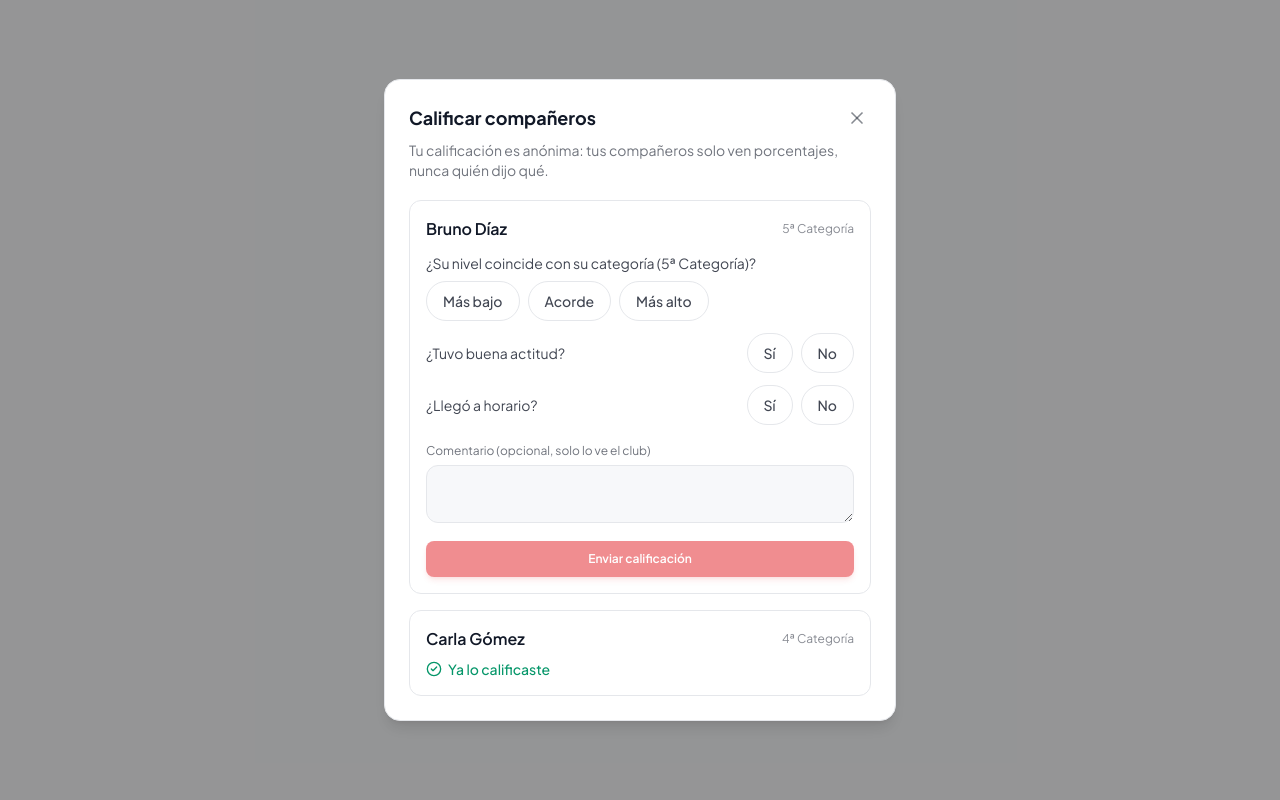
Test: ReviewTeammatesModal › envía las respuestas y el comentario, y lo marca como calificado
Click the button "Más bajo".
click(473, 301)  # box [426,281,520,321]
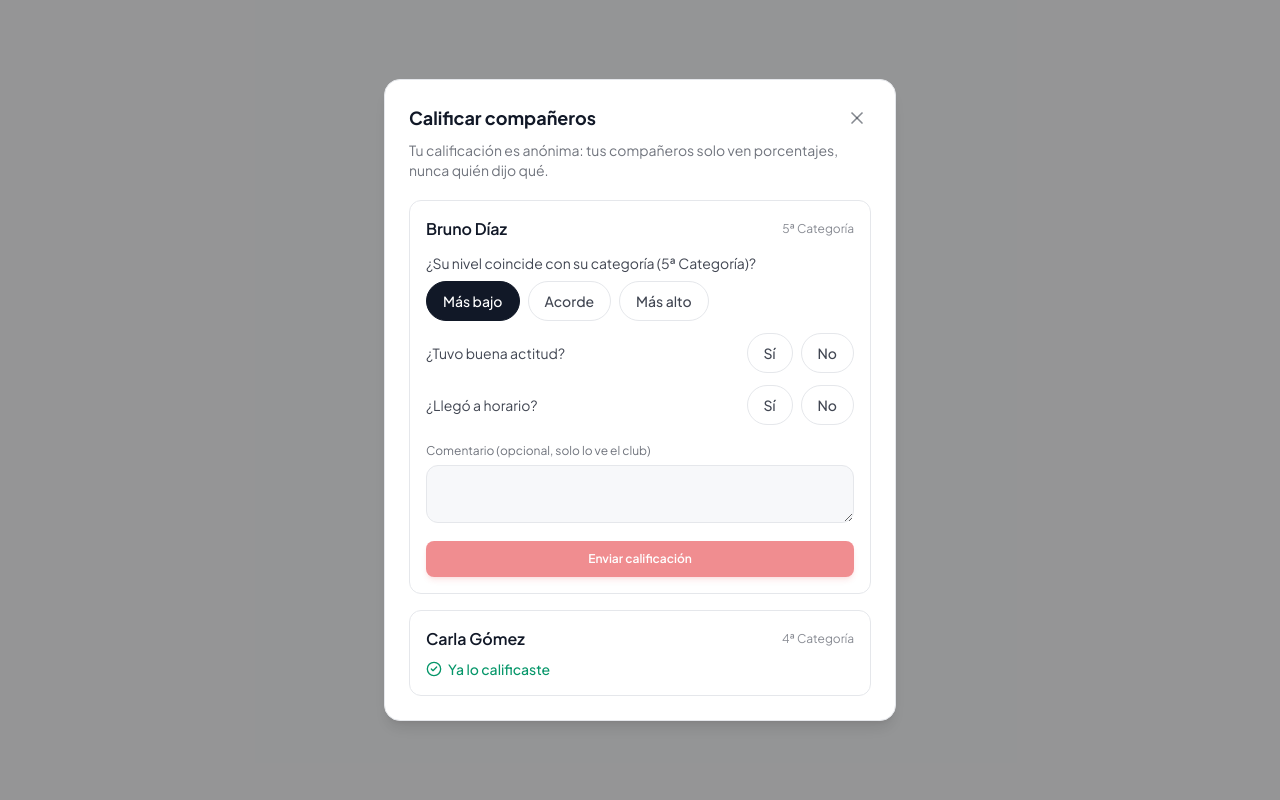
Click the button "Sí" in the row of "¿Tuvo buena actitud?".
click(770, 353)  # box [746,333,792,373]
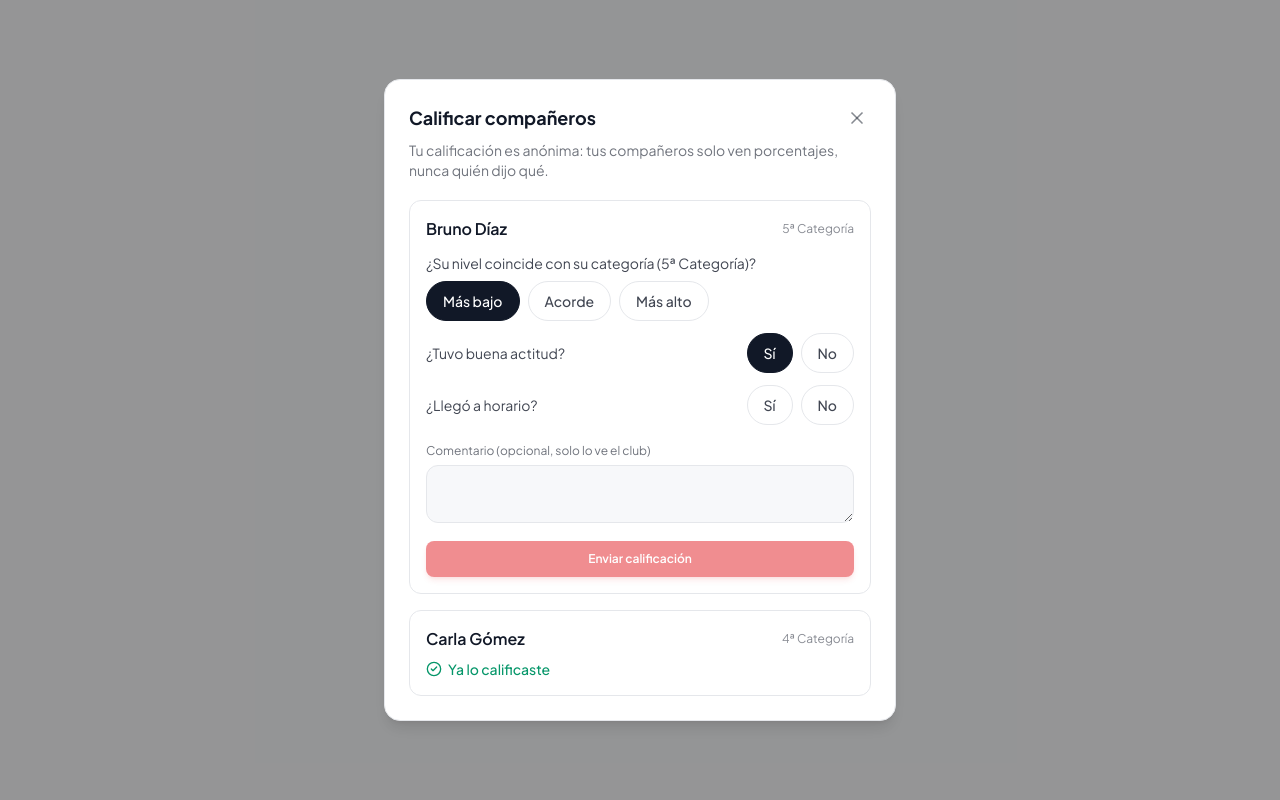
Click the button "No" in the row of "¿Llegó a horario?".
click(827, 405)  # box [800,385,854,425]
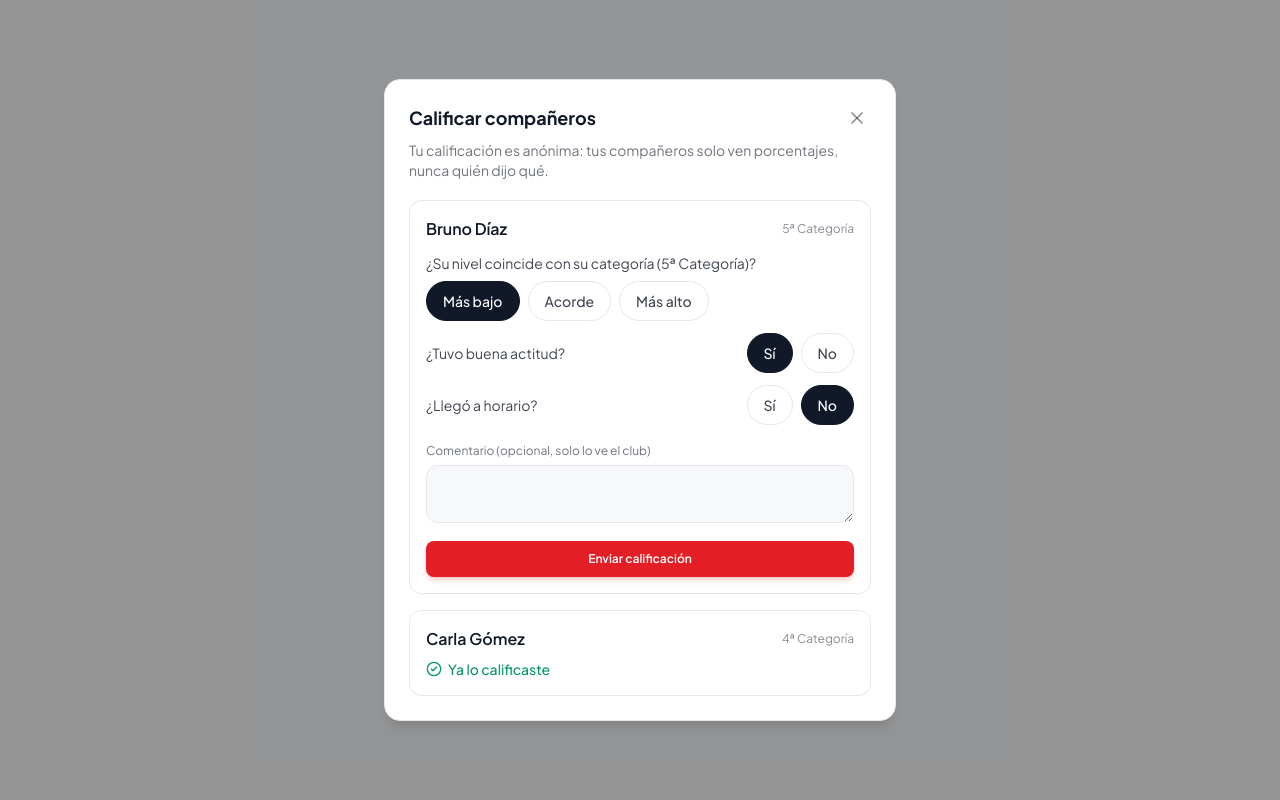
Type "Llegó tarde" into the text box labelled "Comentario (opcional, solo lo ve el club)".
click(640, 494); type("Llegó tarde")  # box [426,465,854,523]
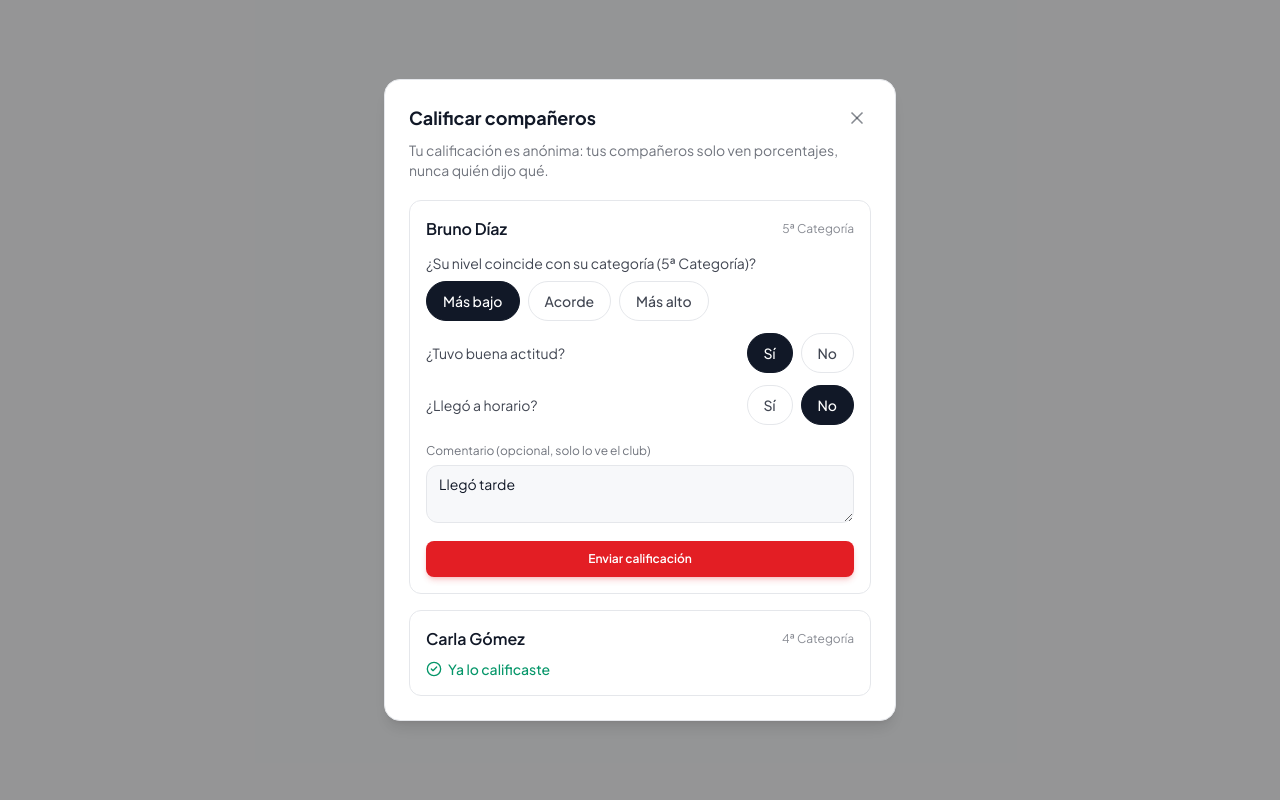
Click the button "Enviar calificación".
click(640, 559)  # box [426,541,854,577]
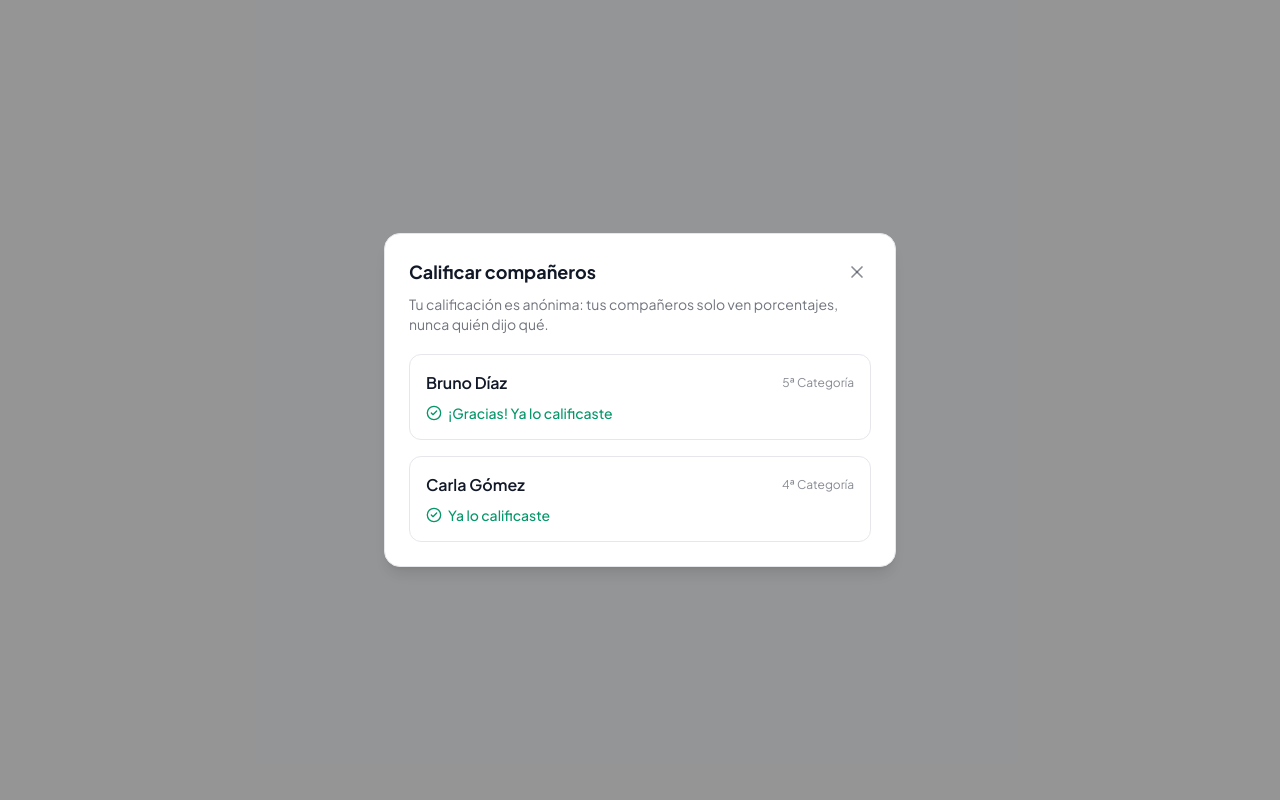
Expected: the text "¡Gracias! Ya lo calificaste" is shown, [426,404,613,422]
